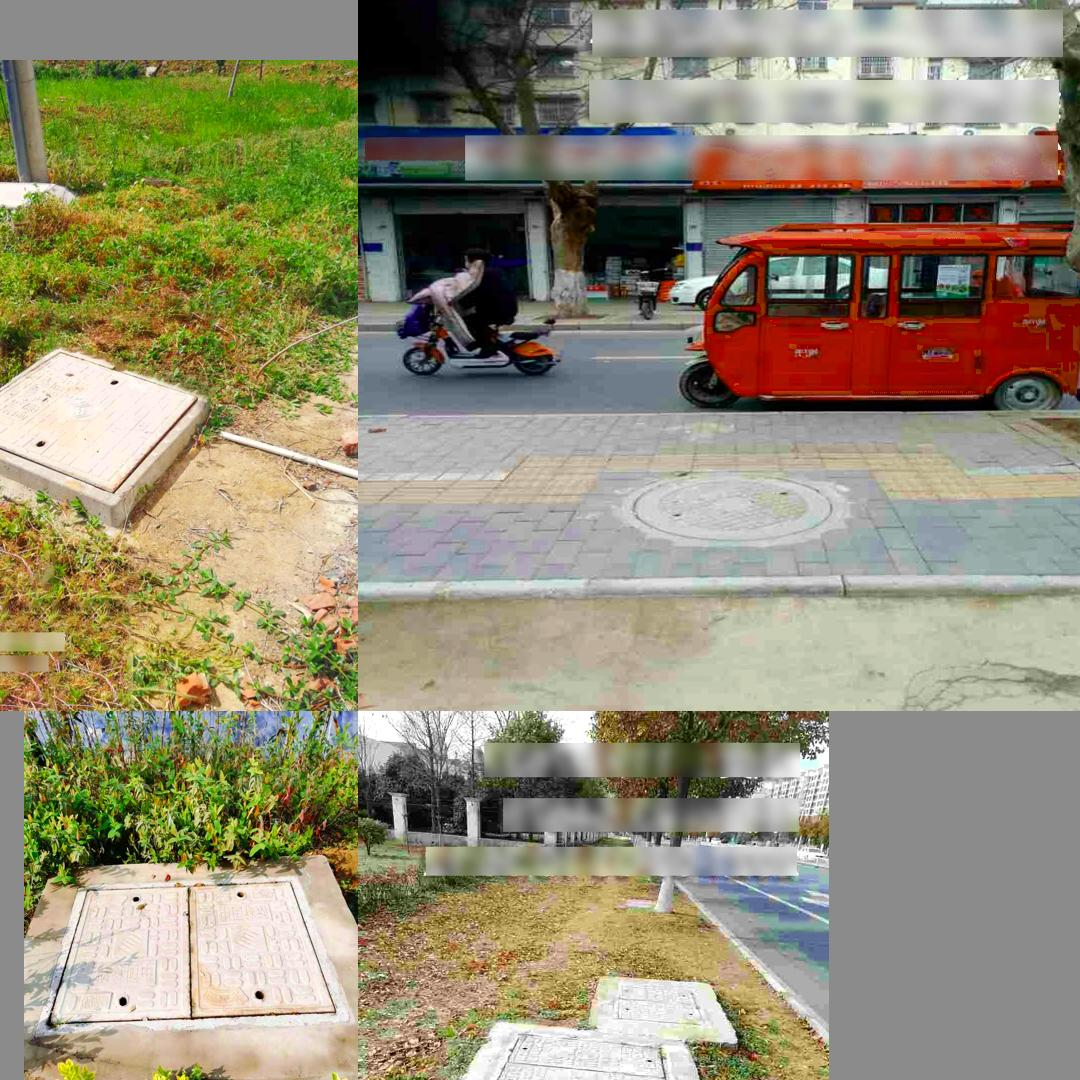good: (36, 873, 354, 1037), (0, 346, 211, 517), (621, 474, 844, 543), (449, 1031, 688, 1080), (611, 977, 712, 1027)
